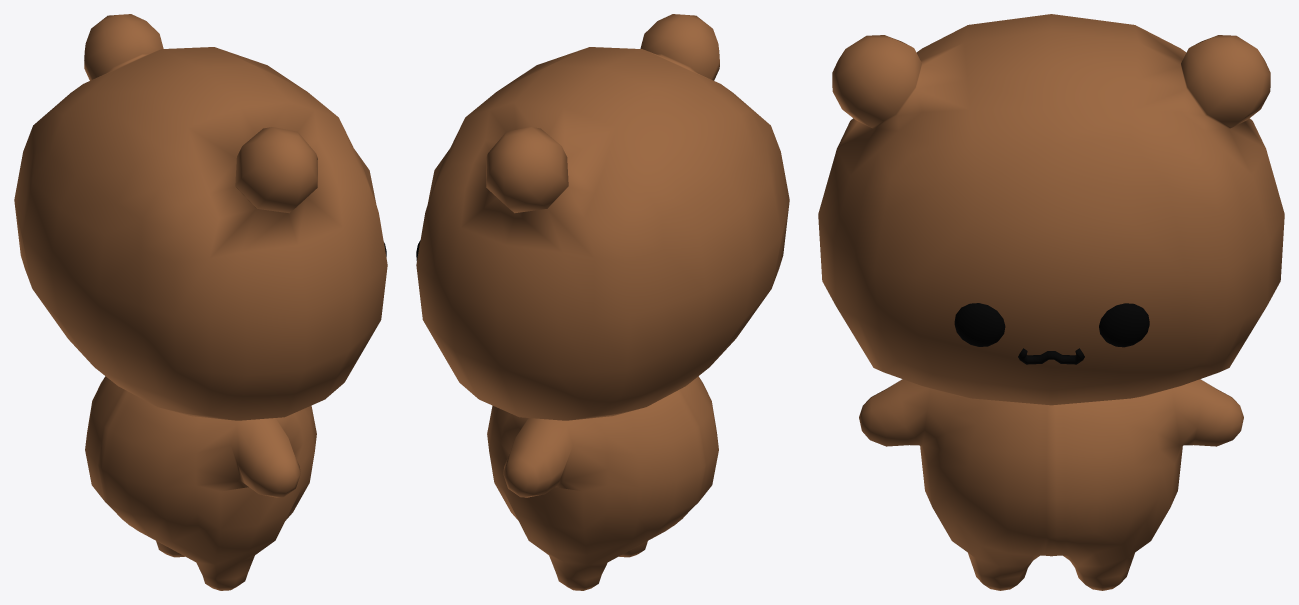
The model's file is teddy bear.fbx.
The picture shows the model from 3 angles, left to right: view 1: azimuth 30°, elevation 25°; view 2: azimuth 150°, elevation 25°; view 3: azimuth 270°, elevation 25°; orthographic projection. The views are drawn at different scales.
Parts seen in each view (by area): view 1: teddy bear, Roundcube.001; view 2: teddy bear, Roundcube.001; view 3: teddy bear, Roundcube.001, Roundcube.003, Roundcube.002, Cylinder.
Part boxes in pixels (x1=…): teddy bear: x1=14, y1=14, x2=387, y2=420; Roundcube.001: x1=85, y1=376, x2=316, y2=590; teddy bear: x1=416, y1=14, x2=789, y2=420; Roundcube.001: x1=487, y1=376, x2=718, y2=590; teddy bear: x1=818, y1=14, x2=1284, y2=405; Roundcube.001: x1=859, y1=379, x2=1243, y2=590; Roundcube.003: x1=1099, y1=303, x2=1149, y2=347; Roundcube.002: x1=954, y1=303, x2=1005, y2=346; Cylinder: x1=1018, y1=348, x2=1084, y2=364.
Bounding box in the file's own units: 296 × 472 × 359.
